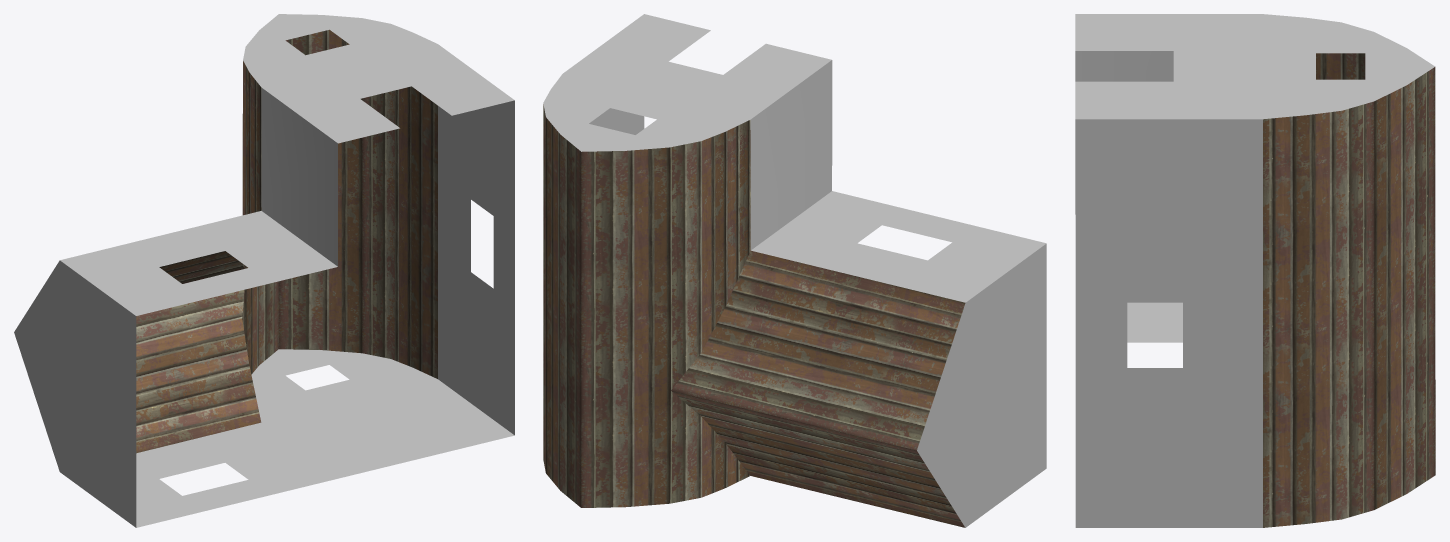
Rendered from Pirate_House_Interior_Type02_D.fbx.
3 views of the same model, side by side, from view 1: azimuth 30°, elevation 25°; view 2: azimuth 150°, elevation 25°; view 3: azimuth 270°, elevation 25° (orthographic). The views are drawn at different scales.
Visible parts, largest first — view 1: Pirate_House_Interior_Type02_D; view 2: Pirate_House_Interior_Type02_D; view 3: Pirate_House_Interior_Type02_D.
Boxes of the visible parts, x1,y1,x2,y2 form: Pirate_House_Interior_Type02_D: [14, 14, 514, 527]; Pirate_House_Interior_Type02_D: [543, 14, 1046, 527]; Pirate_House_Interior_Type02_D: [1075, 14, 1435, 527].
Size of the model in its own units: 11.51 by 9.73 by 7.77.
